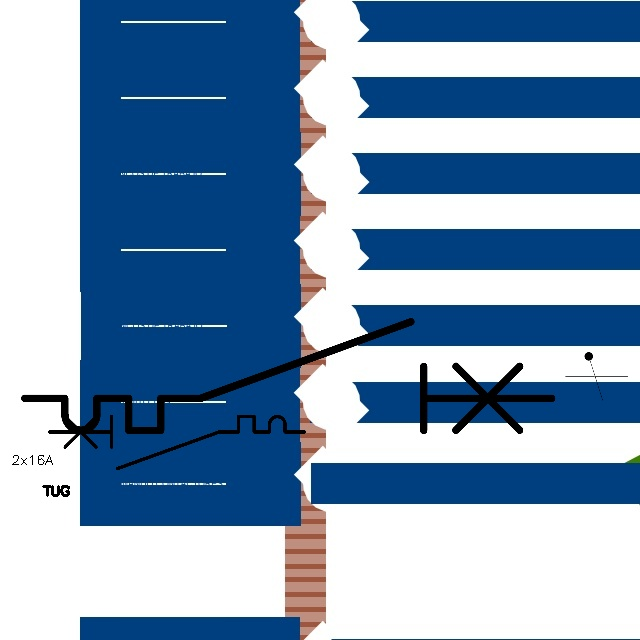interruptor_termomagnetico: (11, 308, 565, 444), (43, 410, 311, 475)
